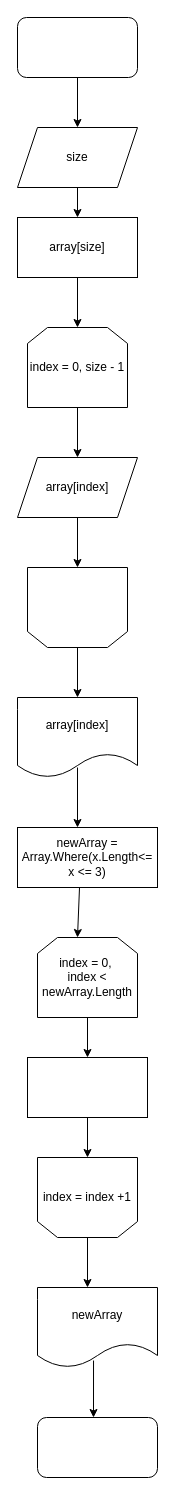
Image size: 175x1495. Some labels were removed from this diagram. The shapes that lost their labels are listed below. From the top down, each one's box as (x1, y1, x2, y2) in pixels, then its label:
(16, 16, 138, 78): Start
(26, 566, 128, 648): index = index + 1
(26, 1056, 148, 1118): newArray[index] = array[index]
(36, 1416, 158, 1478): Finish
